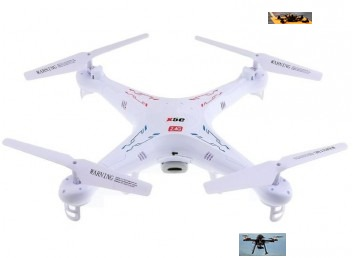drone: (5, 33, 346, 223), (239, 233, 286, 256), (268, 12, 312, 24)
